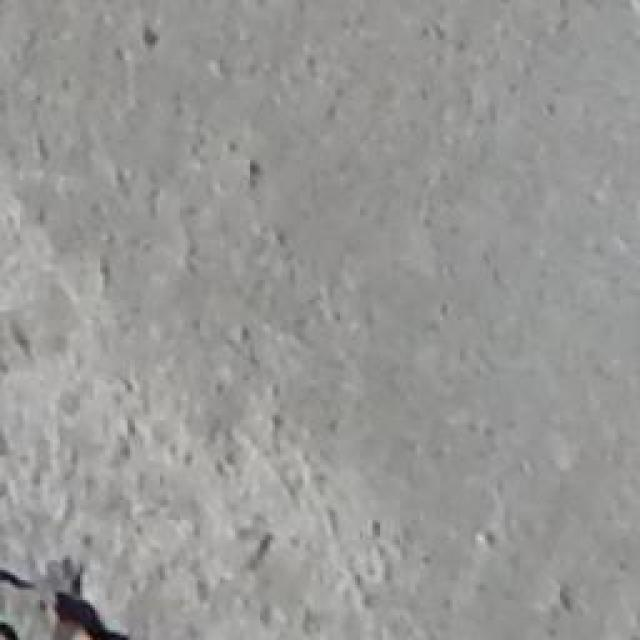concrete-crack: (52, 568, 130, 640), (0, 570, 38, 590)
